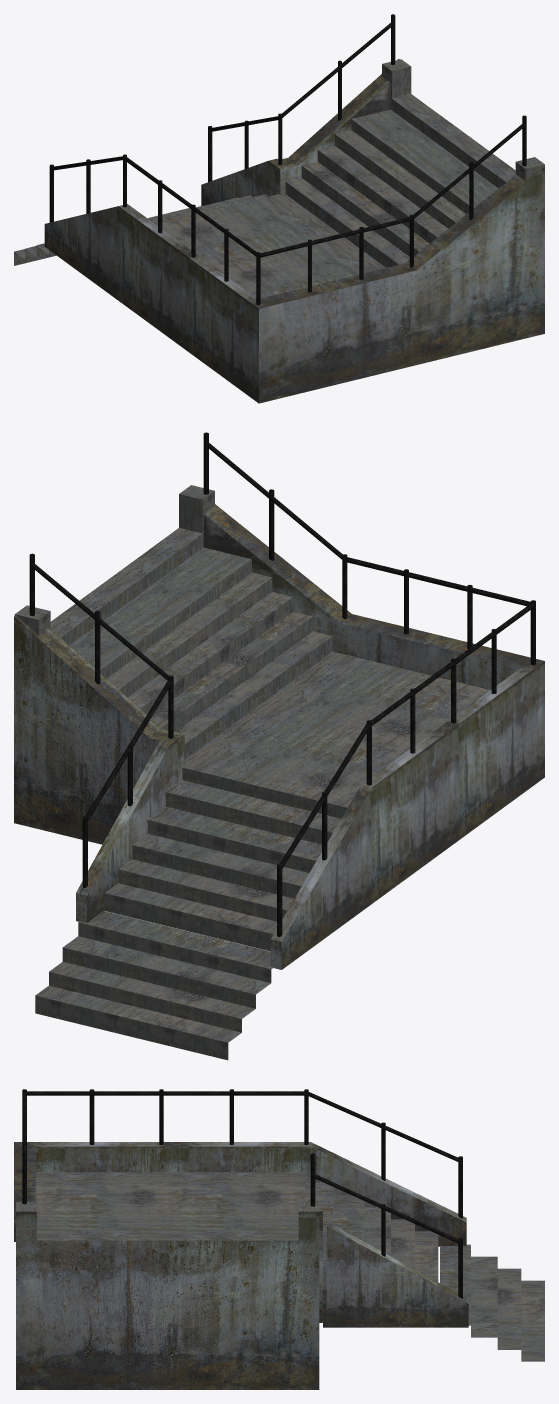
The model's file is lowerStairs.glb.
3 views of the same model, one above another, from view 1: azimuth 30°, elevation 25°; view 2: azimuth 150°, elevation 25°; view 3: azimuth 270°, elevation 25° (orthographic). The views are drawn at different scales.
Parts seen in each view (by area): view 1: objStair; view 2: objStair; view 3: objStair.
Part boxes in pixels (x1,y1,x2,y2): objStair: [14, 14, 544, 403]; objStair: [14, 432, 544, 1060]; objStair: [14, 1089, 544, 1389].
Size of the model in its own units: 2.21 by 1.95 by 3.35.
3 materials, 3 textured.
